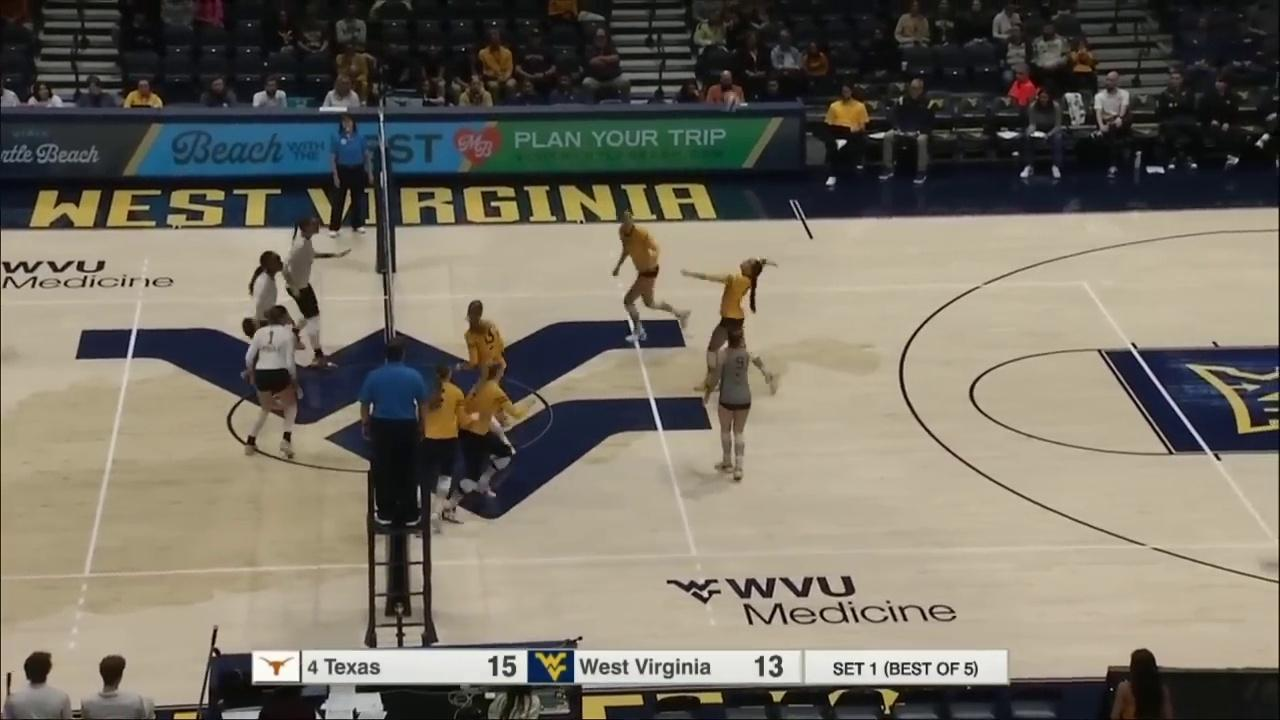player: (682, 259, 776, 396), (449, 363, 537, 499), (419, 363, 480, 537), (285, 212, 349, 370), (615, 209, 690, 341), (244, 308, 302, 459), (458, 301, 510, 441), (715, 326, 751, 482), (247, 251, 283, 389)
refree: (357, 338, 429, 527), (327, 117, 375, 237)
